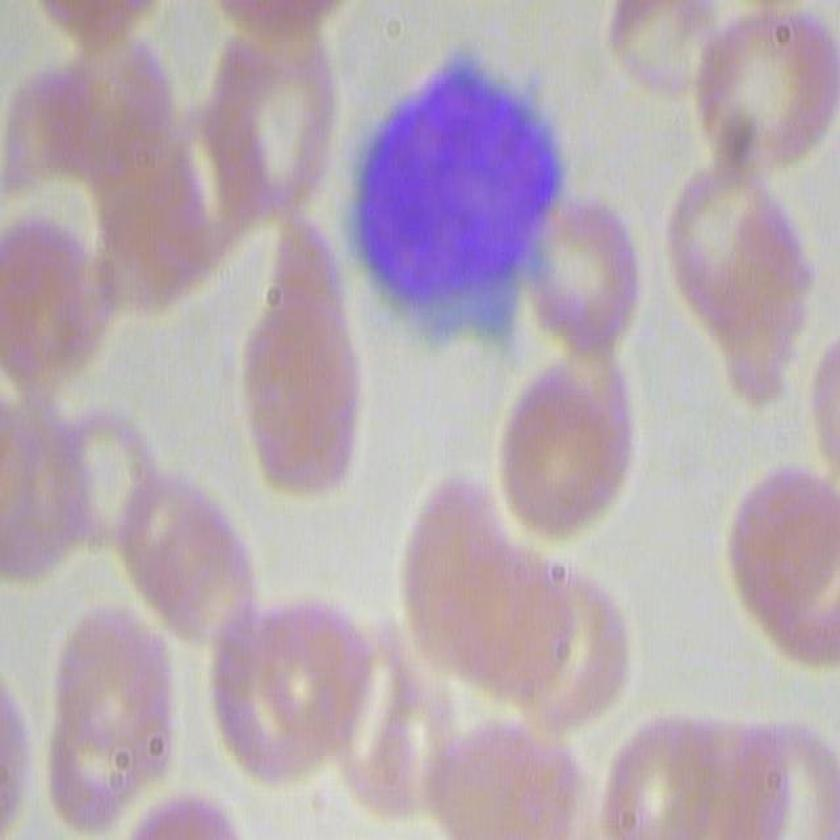lymphocyte: (341, 38, 584, 378)
